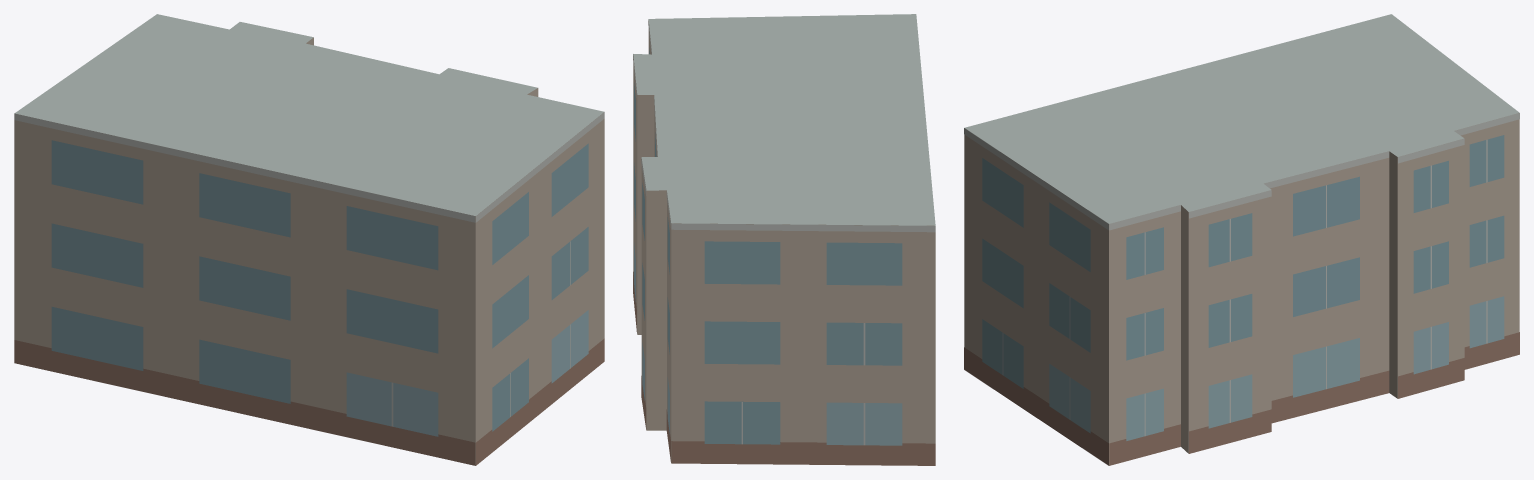
Rendered from survey-upis-33002711.glb.
3 views of the same model, side by side, from view 1: azimuth 30°, elevation 25°; view 2: azimuth 150°, elevation 25°; view 3: azimuth 270°, elevation 25° (orthographic). The views are drawn at different scales.
Visible parts, largest first — view 1: survey-upis-33002711.tmp; view 2: survey-upis-33002711.tmp; view 3: survey-upis-33002711.tmp.
Part boxes in pixels (bbox=[...]): survey-upis-33002711.tmp: bbox=[14, 14, 604, 465]; survey-upis-33002711.tmp: bbox=[633, 14, 935, 465]; survey-upis-33002711.tmp: bbox=[964, 14, 1519, 465].
Size of the model in its own units: 16.96 by 9.1 by 18.96.
